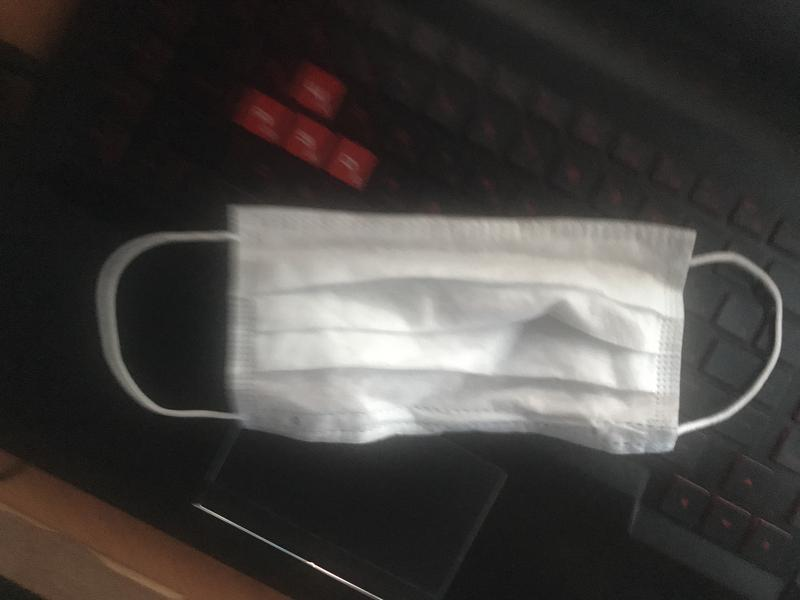medical_mask: (99, 205, 783, 458)
